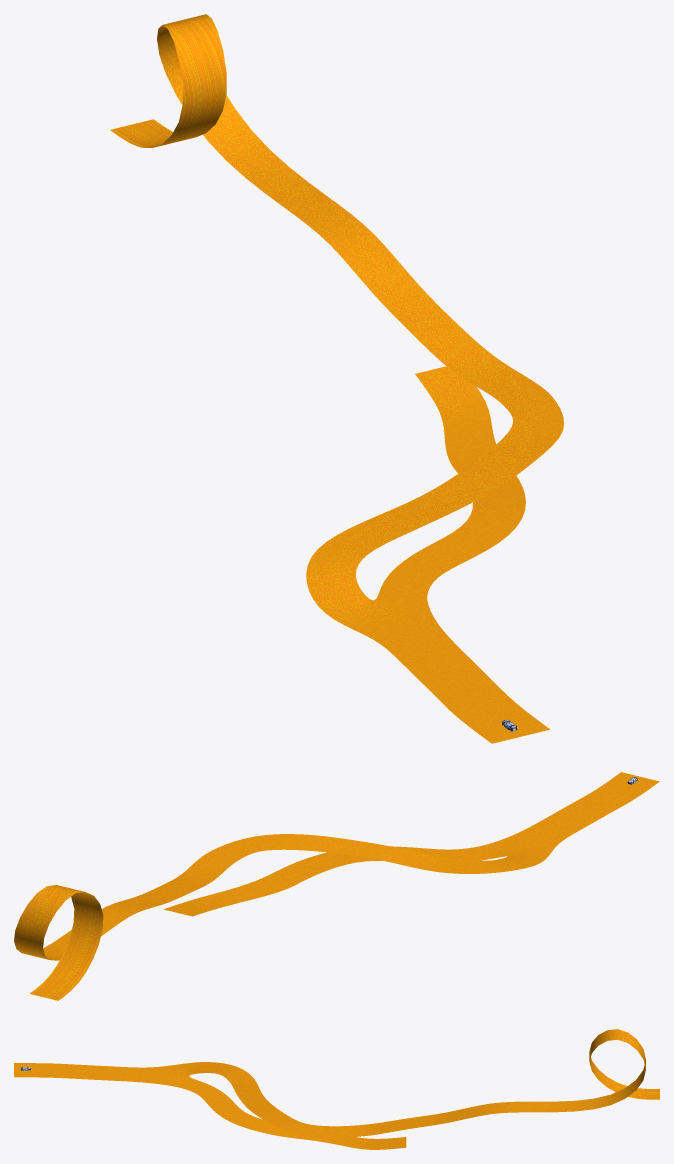
The model's file is Dawn_Encounters.fbx.
3 views of the same model, one above another, from view 1: azimuth 30°, elevation 25°; view 2: azimuth 150°, elevation 25°; view 3: azimuth 270°, elevation 25° (orthographic). The views are drawn at different scales.
Visible parts, largest first — view 1: Plane; view 2: Plane; view 3: Plane.
Part boxes in pixels (left/top/right/bottom): Plane: left=110, top=14, right=564, bottom=743; Plane: left=14, top=772, right=659, bottom=1000; Plane: left=14, top=1029, right=659, bottom=1149.
Bounding box in the file's own units: 5057 × 2732 × 15270.
